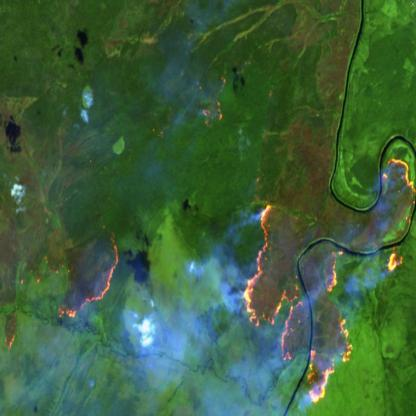fire: (242, 155, 416, 405), (58, 229, 121, 320)
